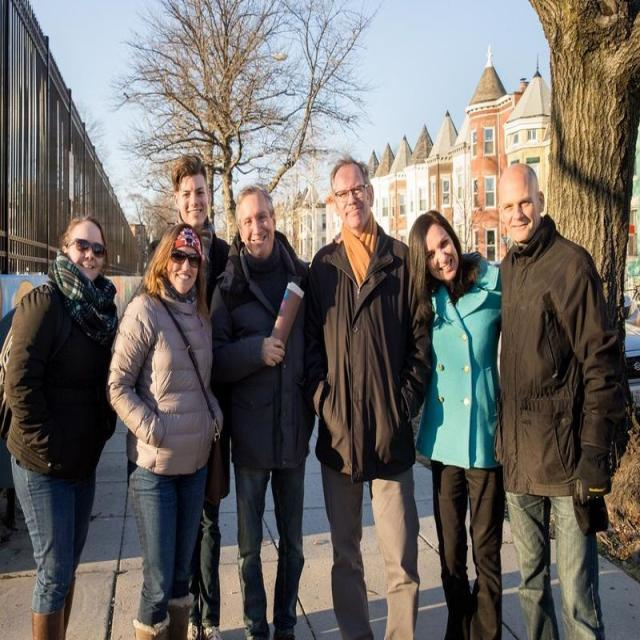body: (298, 151, 432, 639), (493, 160, 622, 639), (206, 183, 320, 639), (4, 214, 125, 639), (105, 223, 225, 639), (406, 210, 504, 640), (148, 151, 233, 640)
